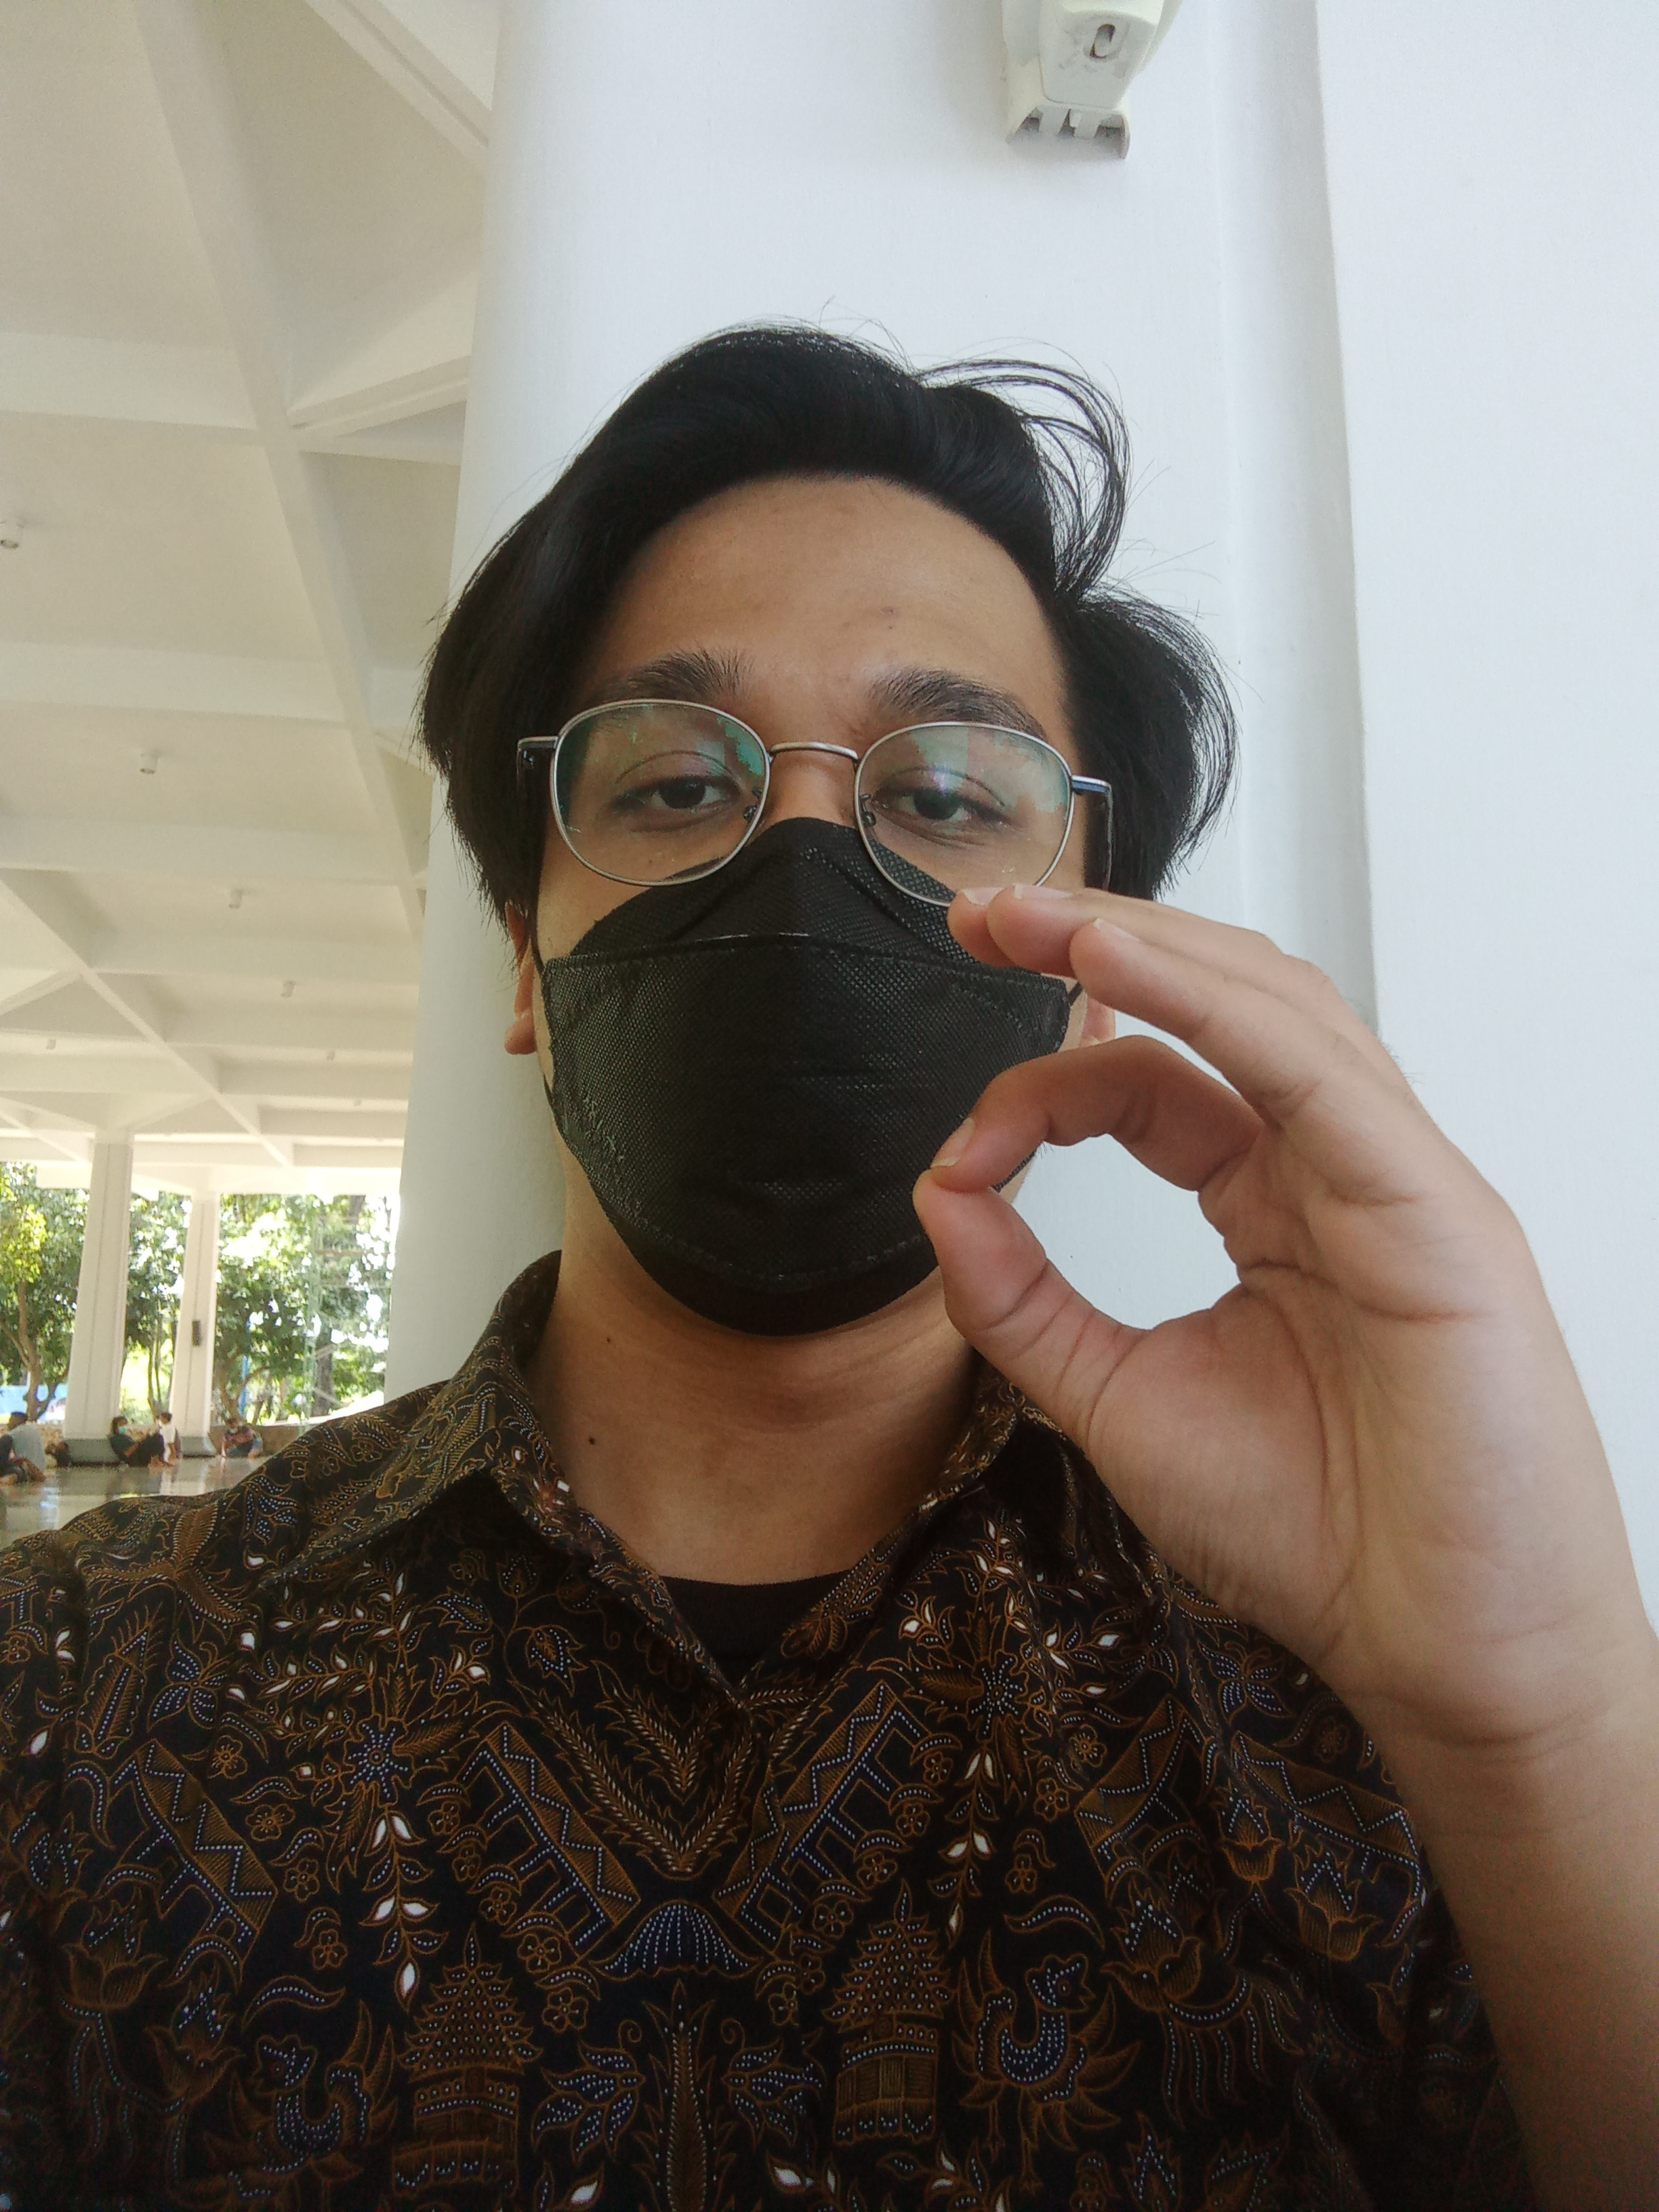O: (911, 843, 1659, 1782)
